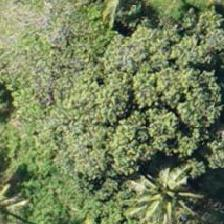coconut_tree: (119, 147, 209, 223)
